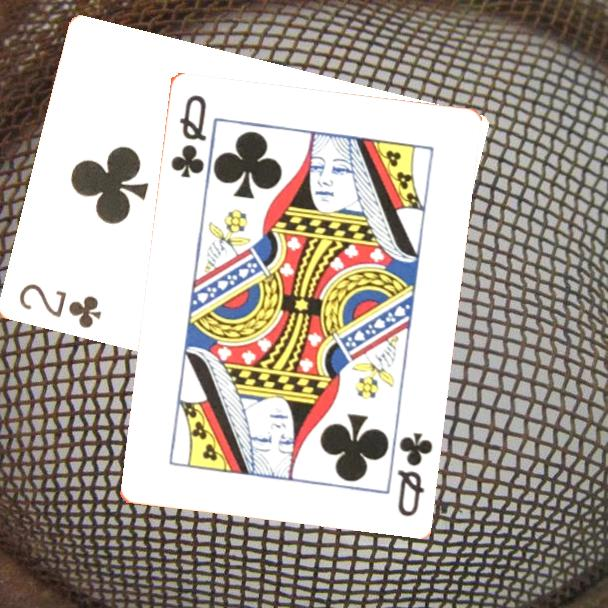c02: (15, 280, 104, 332)
c12: (393, 428, 435, 519), (167, 91, 209, 180)
